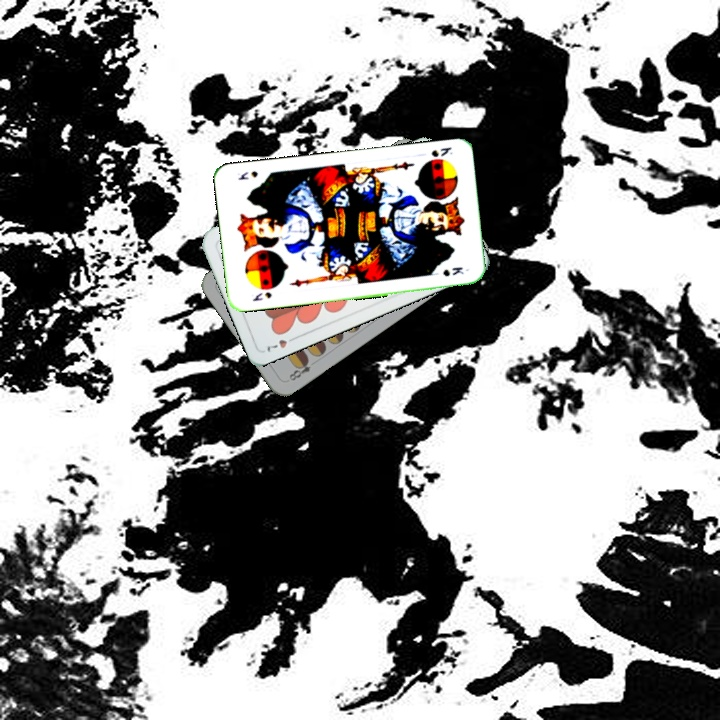E8: (285, 355, 313, 383)
H7: (263, 332, 300, 355)
SK: (427, 143, 455, 159), (248, 288, 274, 304)
